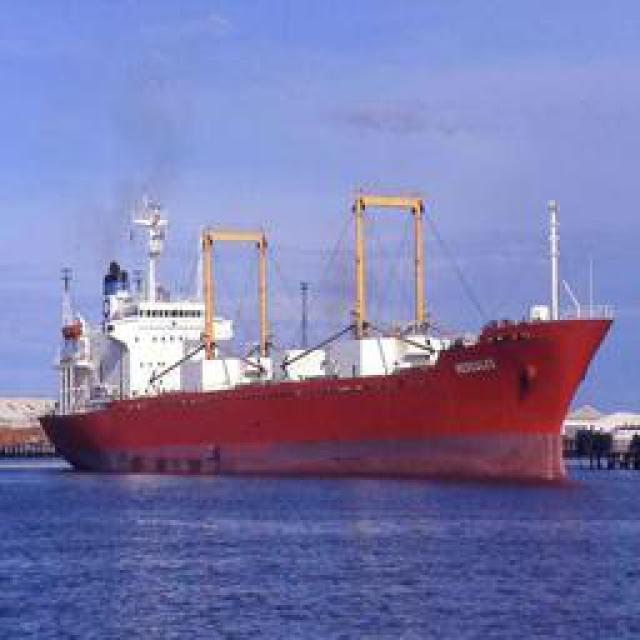Ship: (35, 188, 623, 473)
